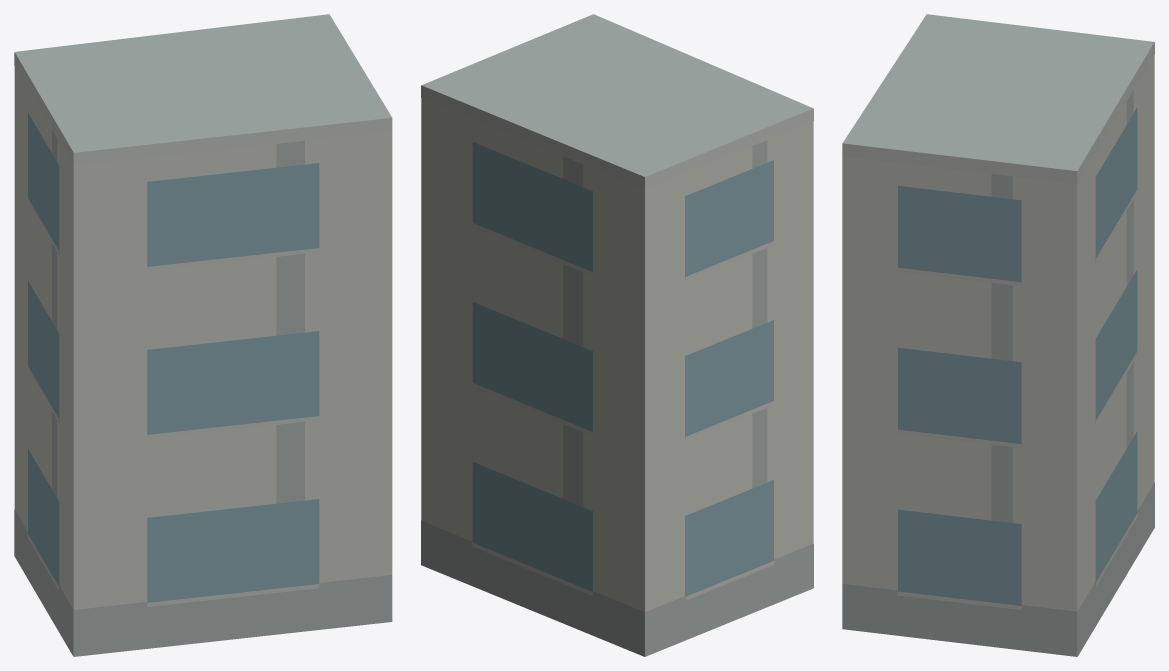
File: survey-upis-33007484.glb
3 renders of one model, left to right at view 1: azimuth 30°, elevation 25°; view 2: azimuth 150°, elevation 25°; view 3: azimuth 270°, elevation 25°, orthographic. The views are drawn at different scales.
Visible parts, largest first — view 1: survey-upis-33007484.tmp; view 2: survey-upis-33007484.tmp; view 3: survey-upis-33007484.tmp.
Boxes of the visible parts, left/top/right/bottom form: survey-upis-33007484.tmp: left=14, top=14, right=392, bottom=656; survey-upis-33007484.tmp: left=421, top=14, right=813, bottom=656; survey-upis-33007484.tmp: left=842, top=14, right=1154, bottom=656.
Bounding box in the file's own units: 6.36 × 9.15 × 5.34.
